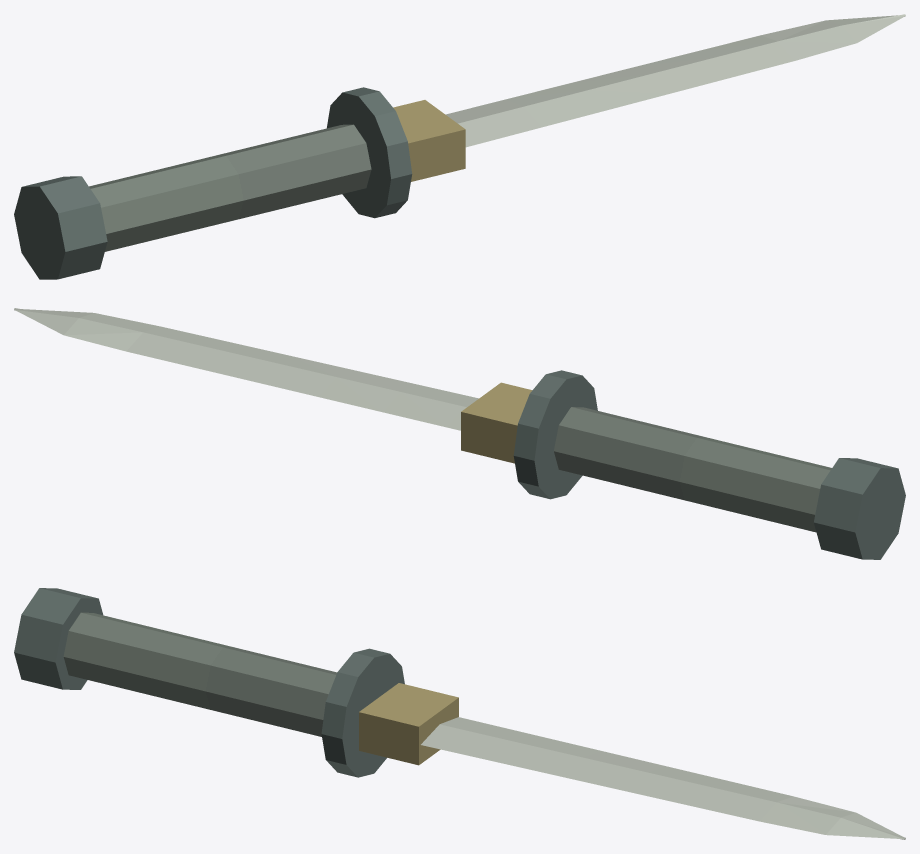
File: weapon-tanto.glb
3 renders of one model, top to bottom at view 1: azimuth 30°, elevation 25°; view 2: azimuth 150°, elevation 25°; view 3: azimuth 330°, elevation 25°, orthographic.
Visible parts, largest first — view 1: weapon-tanto/eight-sided-handle, weapon-tanto/faceted-distinct-blade, weapon-tanto/handle-end-pommel, weapon-tanto/round-tsuba, weapon-tanto/short-blade-collar; view 2: weapon-tanto/eight-sided-handle, weapon-tanto/faceted-distinct-blade, weapon-tanto/handle-end-pommel, weapon-tanto/round-tsuba, weapon-tanto/short-blade-collar; view 3: weapon-tanto/eight-sided-handle, weapon-tanto/faceted-distinct-blade, weapon-tanto/round-tsuba, weapon-tanto/short-blade-collar, weapon-tanto/handle-end-pommel.
Part boxes in pixels (<box>): weapon-tanto/eight-sided-handle: <box>89,124,371,251</box>; weapon-tanto/faceted-distinct-blade: <box>445,14,905,147</box>; weapon-tanto/handle-end-pommel: <box>14,176,107,279</box>; weapon-tanto/round-tsuba: <box>327,87,412,218</box>; weapon-tanto/short-blade-collar: <box>393,100,465,181</box>; weapon-tanto/eight-sided-handle: <box>554,407,831,532</box>; weapon-tanto/faceted-distinct-blade: <box>14,308,478,430</box>; weapon-tanto/handle-end-pommel: <box>813,458,905,559</box>; weapon-tanto/round-tsuba: <box>513,370,597,499</box>; weapon-tanto/short-blade-collar: <box>461,382,532,463</box>; weapon-tanto/eight-sided-handle: <box>63,612,337,736</box>; weapon-tanto/faceted-distinct-blade: <box>421,717,905,839</box>; weapon-tanto/round-tsuba: <box>321,648,404,777</box>; weapon-tanto/short-blade-collar: <box>359,683,458,765</box>; weapon-tanto/handle-end-pommel: <box>14,588,103,689</box>.
Bounding box in the file's own units: 0.372 × 0.048 × 0.048.
4 materials, 4 textured.
